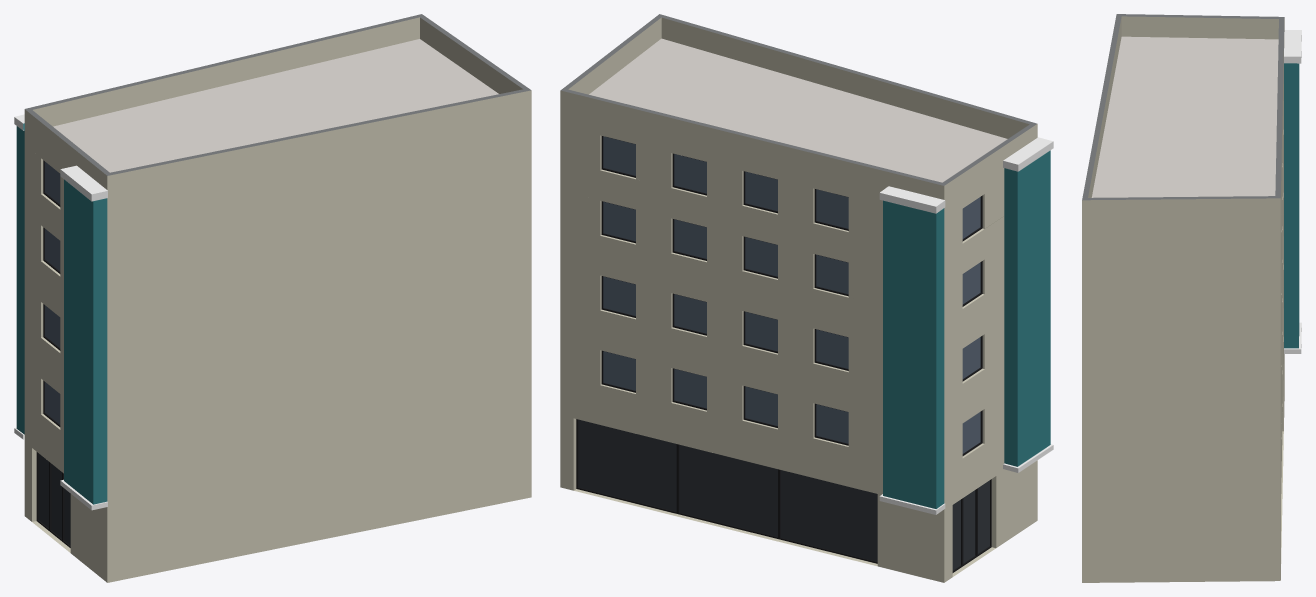
The model's file is thunder525.glb.
3 views of the same model, side by side, from view 1: azimuth 30°, elevation 25°; view 2: azimuth 150°, elevation 25°; view 3: azimuth 270°, elevation 25° (orthographic). The views are drawn at different scales.
Parts seen in each view (by area): view 1: thunder525; view 2: thunder525; view 3: thunder525.
Part boxes in pixels (box(x1,y1,x2,y2)): thunder525: box(14, 14, 531, 582); thunder525: box(560, 14, 1053, 582); thunder525: box(1082, 14, 1301, 582).
Bounding box in the file's own units: 18.44 × 17 × 8.85.
